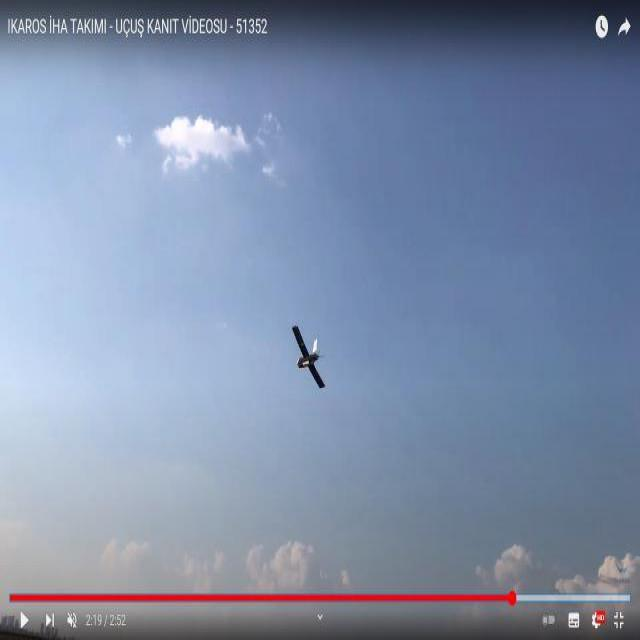iha: (302, 349, 341, 369)
